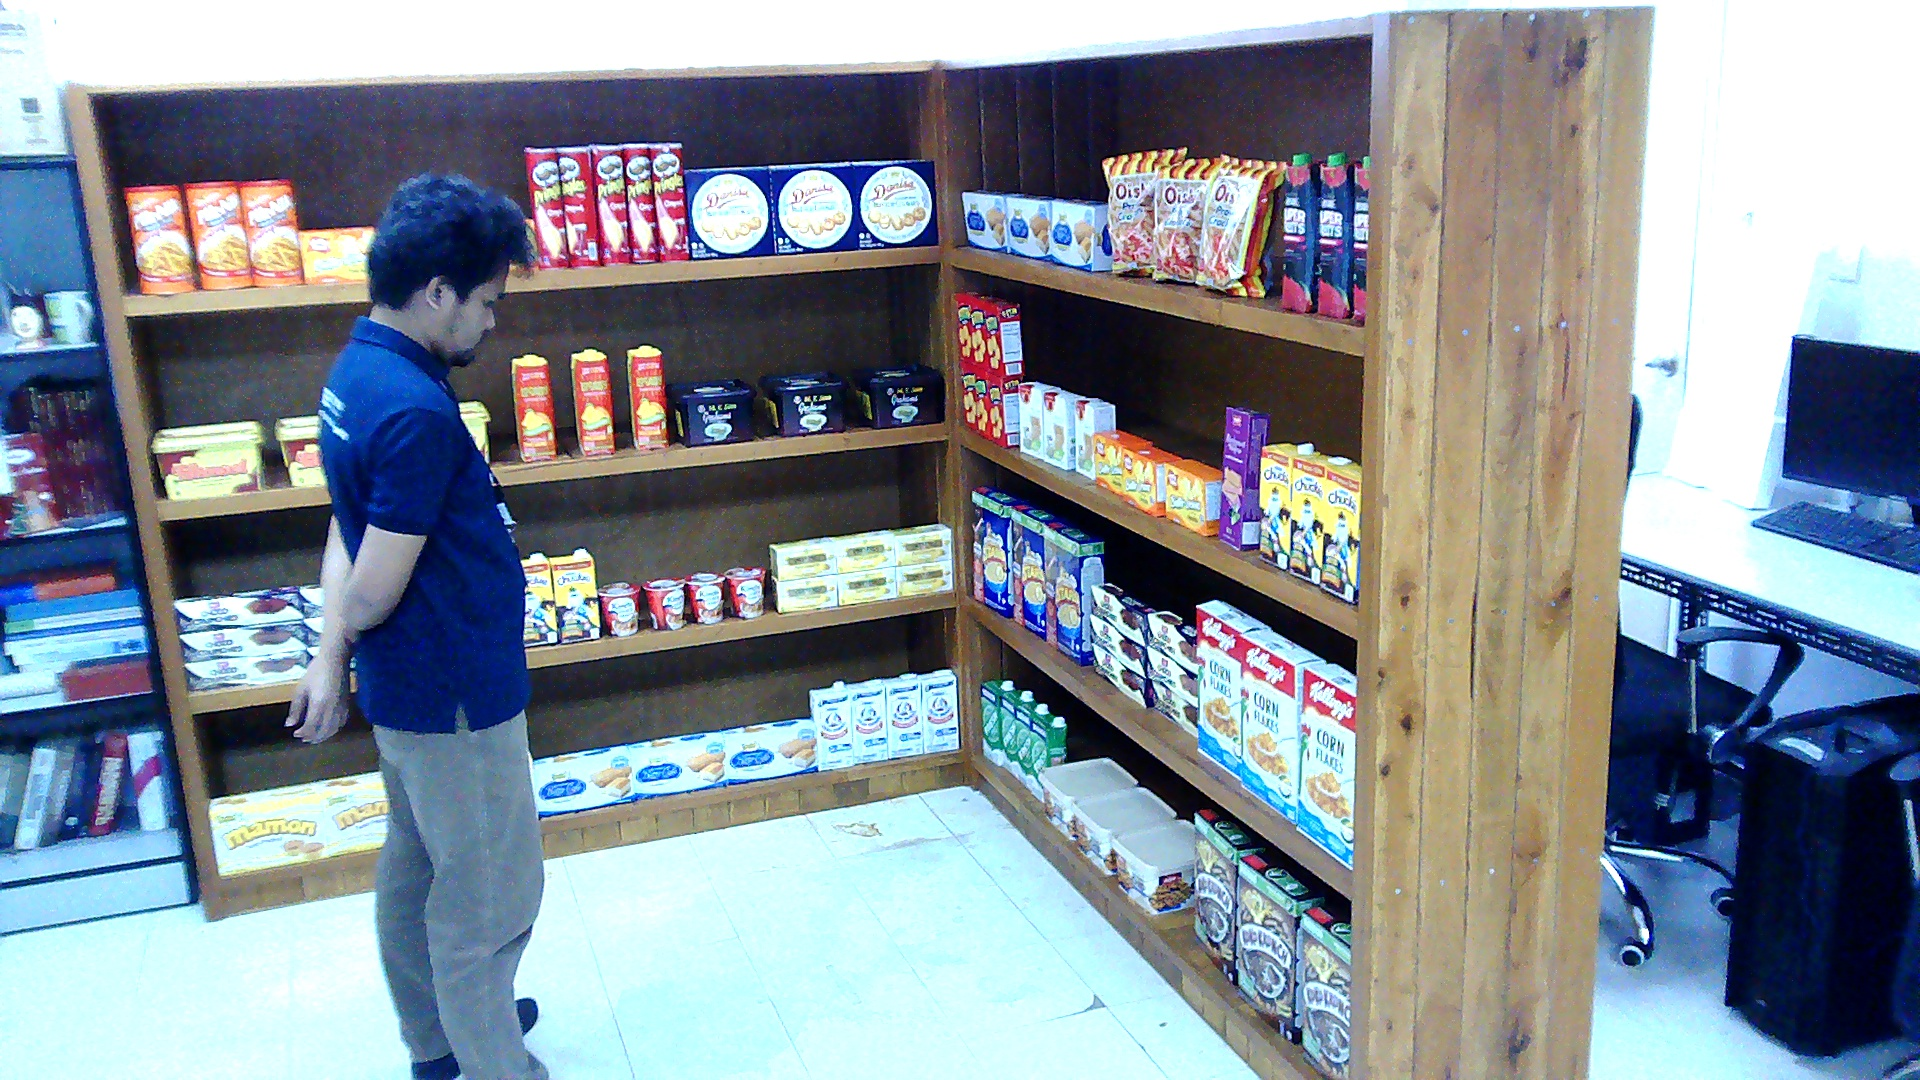Bear brand: (810, 682, 852, 770), (846, 679, 888, 762), (879, 675, 921, 756), (917, 670, 956, 753)
Buttercake: (530, 745, 635, 817), (627, 729, 726, 799), (720, 717, 816, 782), (1050, 198, 1110, 270), (1005, 193, 1056, 261), (960, 189, 1014, 252)
Butterlicious: (1119, 443, 1182, 515), (299, 224, 374, 283), (1164, 459, 1221, 535), (1092, 429, 1149, 494)
Camomille: (768, 538, 837, 578), (887, 522, 950, 562), (771, 576, 837, 612), (831, 531, 894, 569), (837, 565, 897, 603), (897, 558, 951, 594)
Choco Crunchies: (170, 585, 299, 634), (180, 621, 306, 661), (183, 650, 306, 690), (1089, 582, 1155, 645), (1092, 641, 1146, 706), (1088, 614, 1145, 675), (1149, 679, 1197, 738), (1146, 609, 1194, 670), (1146, 645, 1194, 704)
Chocolate Chips: (1037, 756, 1136, 839), (1110, 819, 1191, 913)
Chuckie: (1287, 452, 1347, 585), (1260, 441, 1317, 569), (1320, 461, 1362, 605), (549, 549, 600, 641), (522, 552, 558, 646)
Danisa: (765, 160, 855, 252), (851, 158, 938, 250), (683, 164, 770, 256)
Fita: (984, 299, 1020, 378), (987, 374, 1017, 448), (969, 295, 999, 369), (953, 290, 980, 360), (972, 365, 990, 439), (959, 360, 974, 430)
Fresh Milk: (1070, 785, 1175, 873), (1029, 713, 1065, 801), (978, 677, 1014, 765), (1014, 700, 1047, 790), (998, 688, 1031, 776)
Grahams: (665, 376, 752, 446), (848, 362, 941, 427), (759, 371, 846, 436)
Hansel: (150, 421, 264, 497), (273, 414, 324, 486)
Head: (360, 168, 537, 375)
Honey Stars: (1041, 515, 1104, 666), (972, 483, 1026, 618), (1010, 501, 1055, 638)
Kellogg Corn Flakes: (1239, 627, 1323, 821), (1197, 599, 1269, 781), (1296, 661, 1356, 870)
Kimchi Noodles: (597, 581, 639, 635), (642, 576, 684, 630), (725, 565, 764, 619), (687, 571, 723, 623)
Koko Krunch: (1239, 852, 1326, 1043), (1194, 805, 1263, 983), (1302, 902, 1350, 1078)
Locally Mango: (510, 353, 555, 463), (570, 349, 615, 457), (627, 344, 666, 450)
Mamon: (207, 781, 333, 873), (321, 771, 387, 852)
Oishi Prawn: (1194, 153, 1287, 297), (1101, 143, 1185, 276), (1152, 155, 1218, 283)
Pik-nik: (123, 185, 195, 295), (182, 180, 251, 288), (239, 178, 302, 286)
Pringles: (554, 146, 599, 265), (525, 146, 567, 268), (591, 144, 630, 266), (651, 143, 690, 260), (621, 141, 657, 260)
Super Fruits: (1281, 151, 1320, 311), (1317, 150, 1353, 317), (1353, 154, 1368, 321)
Wafer: (1217, 405, 1268, 549)
iHop: (1074, 396, 1116, 479), (1041, 386, 1083, 467), (1017, 380, 1056, 459)
